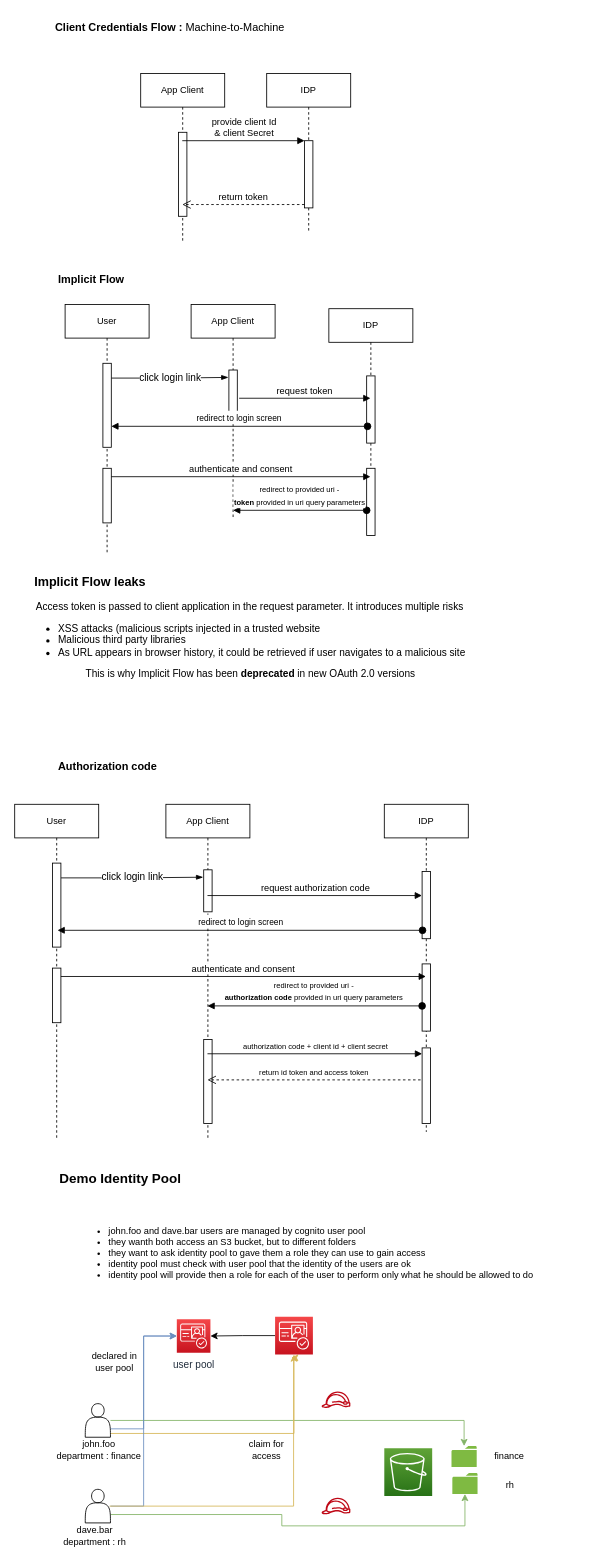
This 613x1562 diagram has some shape labels left out. Here are the shapes that lost their labels. From the top down, the centre of each, then its label:
the point at 293,1335: identity pool
the point at 407,1471: S3
